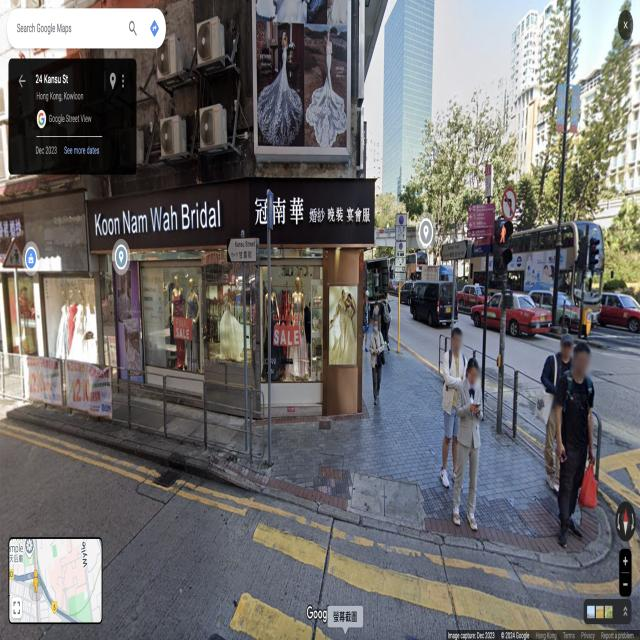Direction-Sign: (269, 189, 274, 228)
Order-Sign: (502, 187, 516, 220), (395, 242, 406, 271), (396, 214, 407, 240)
Street-Direction-Sign: (227, 237, 257, 263), (441, 239, 468, 260)
